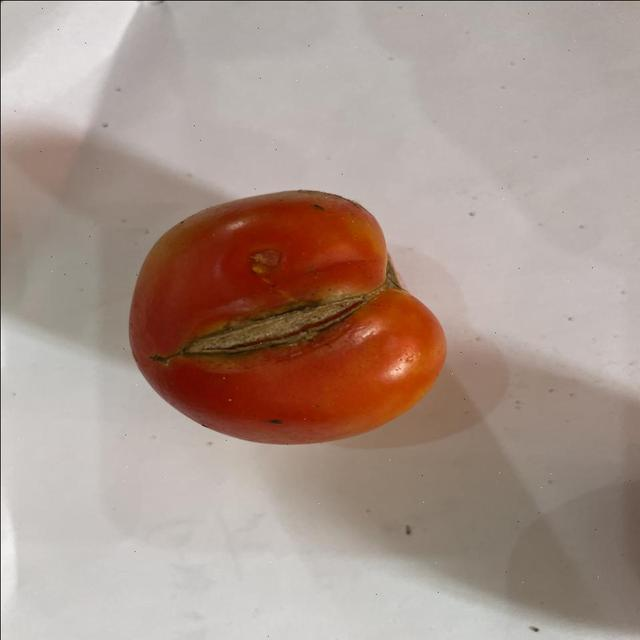Cracking Fruit: (85, 101, 188, 342)
